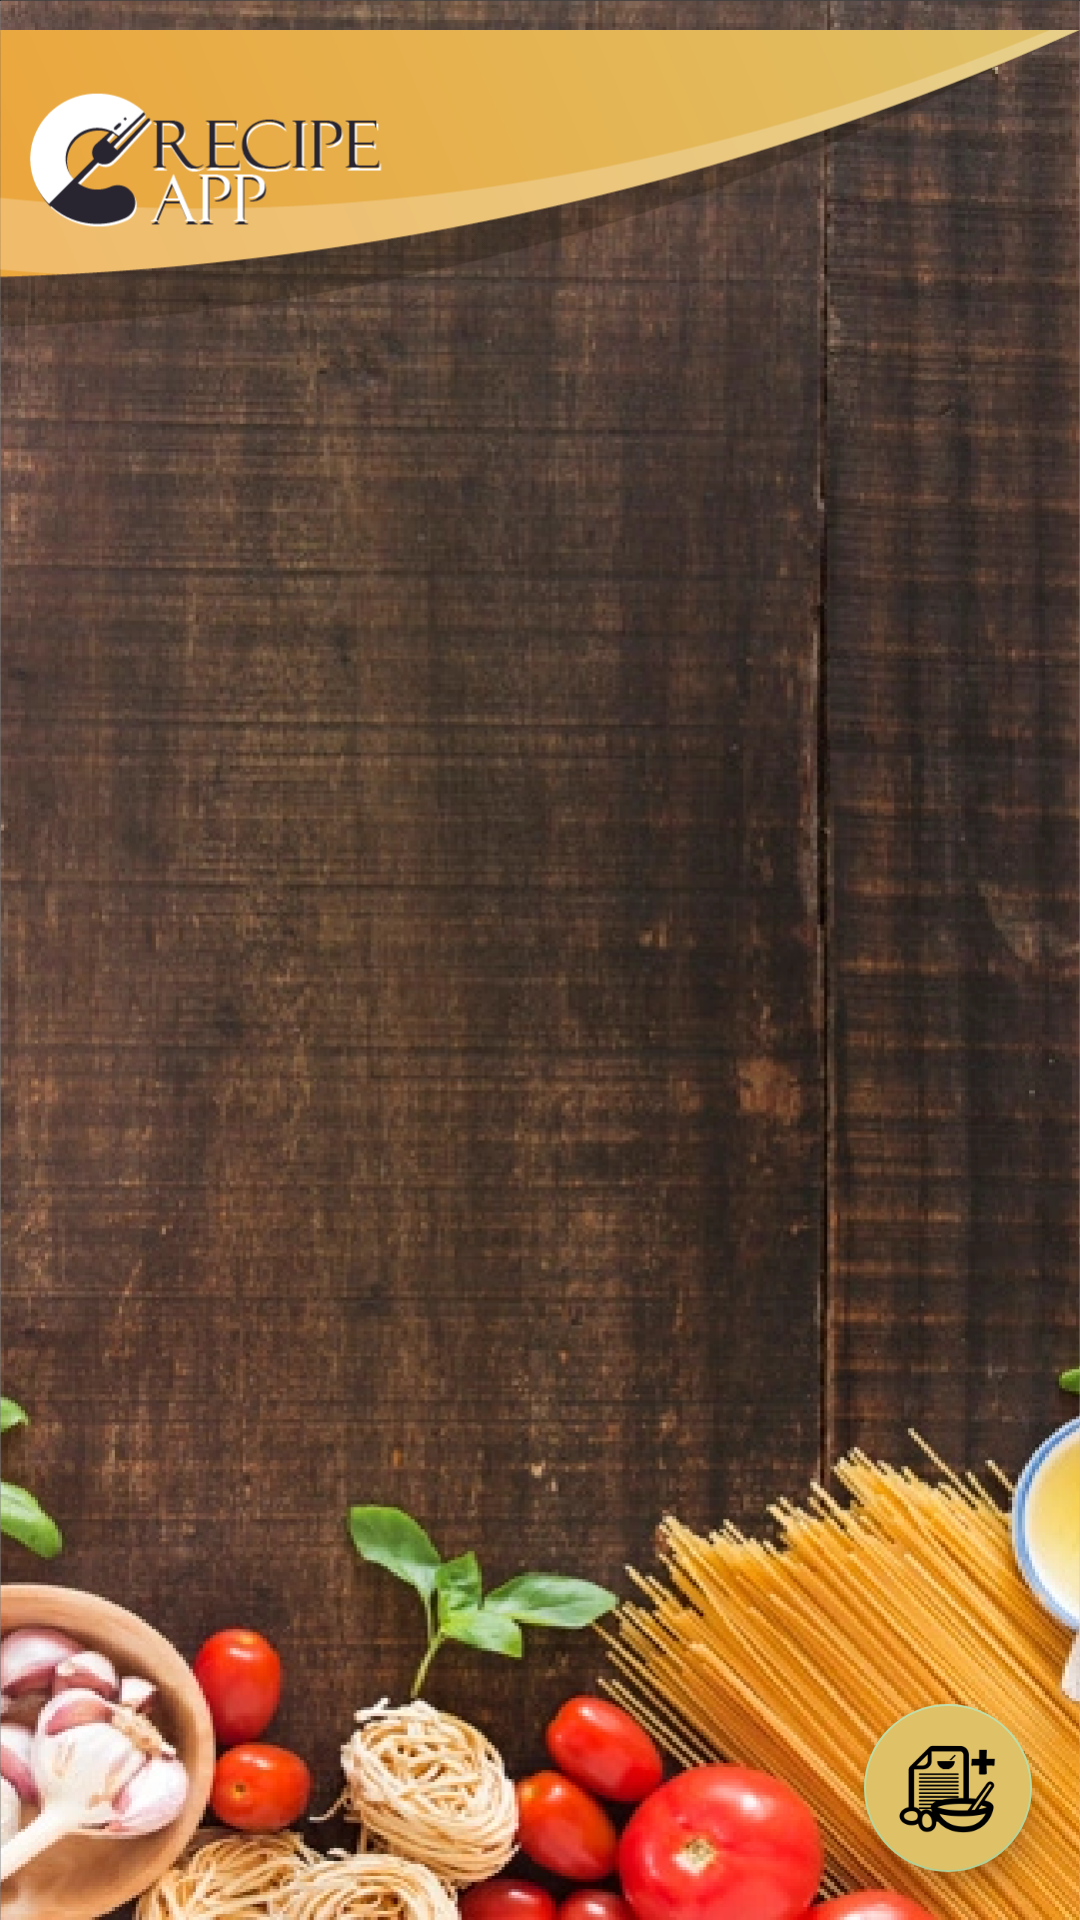

Icon click points for this 1080 x 1920 phone screenshot, format (x,y):
add recipe: (948,1788)
